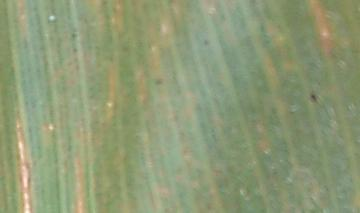tarspot: (308, 91, 320, 104), (69, 30, 79, 42), (153, 76, 164, 86), (201, 38, 210, 47), (315, 79, 322, 87), (71, 46, 78, 54), (100, 1, 108, 7)
